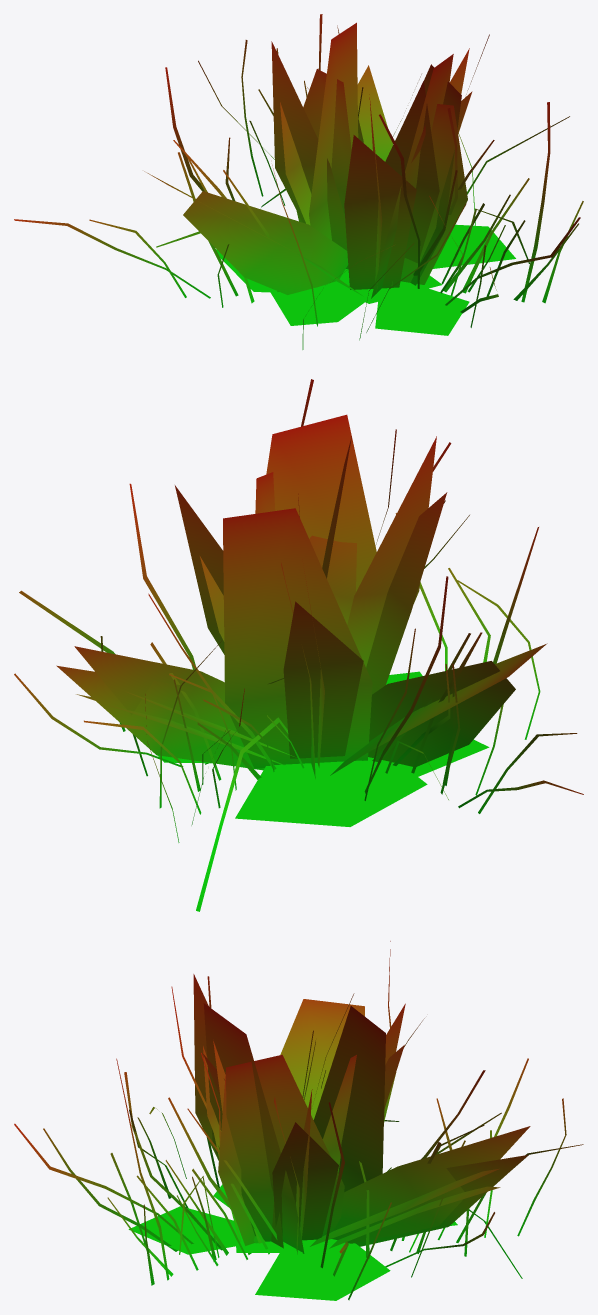
Rendered from Var11_LOD2.fbx.
3 views of the same model, one above another, from view 1: azimuth 30°, elevation 25°; view 2: azimuth 150°, elevation 25°; view 3: azimuth 270°, elevation 25° (orthographic). The views are drawn at different scales.
Visible parts, largest first — view 1: _41fb_Var11_LOD2; view 2: _41fb_Var11_LOD2; view 3: _41fb_Var11_LOD2.
Part boxes in pixels (box(x1,y1,x2,y2)): _41fb_Var11_LOD2: box(14, 14, 583, 349); _41fb_Var11_LOD2: box(14, 379, 583, 911); _41fb_Var11_LOD2: box(14, 941, 583, 1300).
Bounding box in the file's own units: 18.99 × 10.24 × 18.07.
